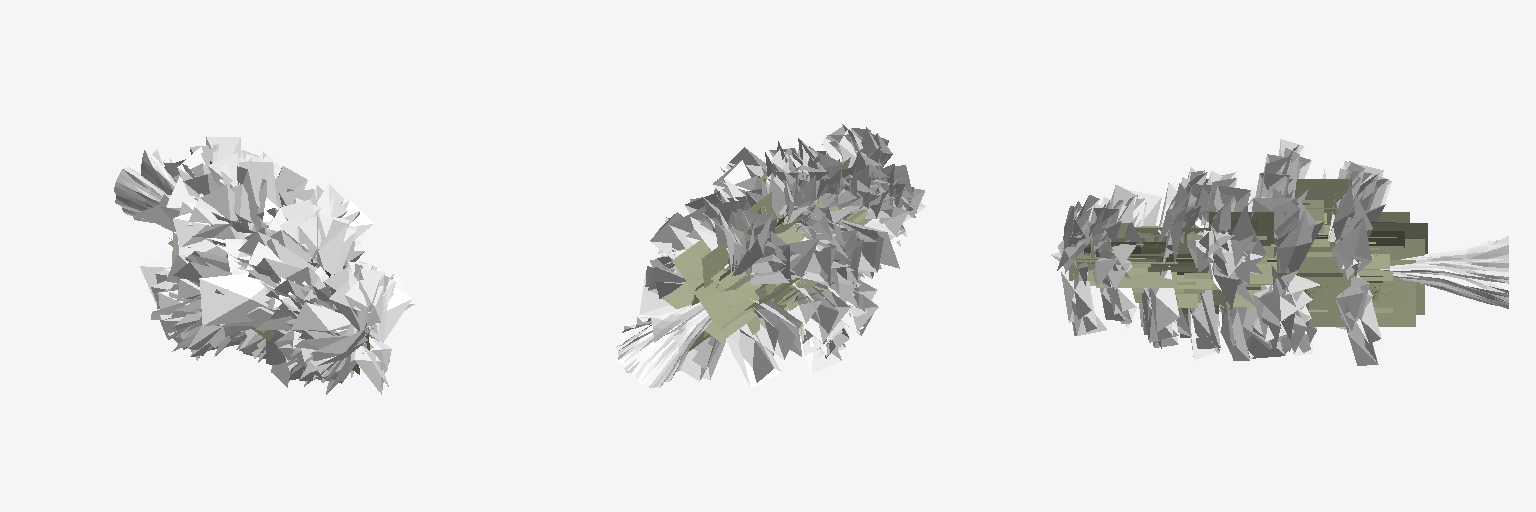
3 views of the same model, side by side, from view 1: azimuth 30°, elevation 25°; view 2: azimuth 150°, elevation 25°; view 3: azimuth 270°, elevation 25° (orthographic).
Parts seen in each view (by area): view 1: cypres_chauve_cypreschauve_needles_D_cypres_chauve_cypreschauve_, cypres_chauve_cypreschauve_bark_D_cypres_chauve_cypreschauve_bar; view 2: cypres_chauve_cypreschauve_needles_D_cypres_chauve_cypreschauve_, cypres_chauve_CypresChauve_mousse_D_cypres_chauve_CypresChauve_m, cypres_chauve_cypreschauve_bark_D_cypres_chauve_cypreschauve_bar; view 3: cypres_chauve_cypreschauve_needles_D_cypres_chauve_cypreschauve_, cypres_chauve_CypresChauve_mousse_D_cypres_chauve_CypresChauve_m, cypres_chauve_cypreschauve_bark_D_cypres_chauve_cypreschauve_bar.
Boxes of the visible parts, x1=… form: cypres_chauve_cypreschauve_needles_D_cypres_chauve_cypreschauve_: x1=136, y1=137, x2=414, y2=394; cypres_chauve_cypreschauve_bark_D_cypres_chauve_cypreschauve_bar: x1=114, y1=149, x2=370, y2=335; cypres_chauve_cypreschauve_needles_D_cypres_chauve_cypreschauve_: x1=639, y1=124, x2=925, y2=387; cypres_chauve_CypresChauve_mousse_D_cypres_chauve_CypresChauve_m: x1=663, y1=147, x2=871, y2=351; cypres_chauve_cypreschauve_bark_D_cypres_chauve_cypreschauve_bar: x1=616, y1=214, x2=783, y2=387; cypres_chauve_cypreschauve_needles_D_cypres_chauve_cypreschauve_: x1=1051, y1=139, x2=1391, y2=365; cypres_chauve_CypresChauve_mousse_D_cypres_chauve_CypresChauve_m: x1=1067, y1=179, x2=1427, y2=326; cypres_chauve_cypreschauve_bark_D_cypres_chauve_cypreschauve_bar: x1=1226, y1=236, x2=1508, y2=308.
Size of the model in its own units: 13.05 by 11.77 by 24.07.
3 materials, 1 textured.